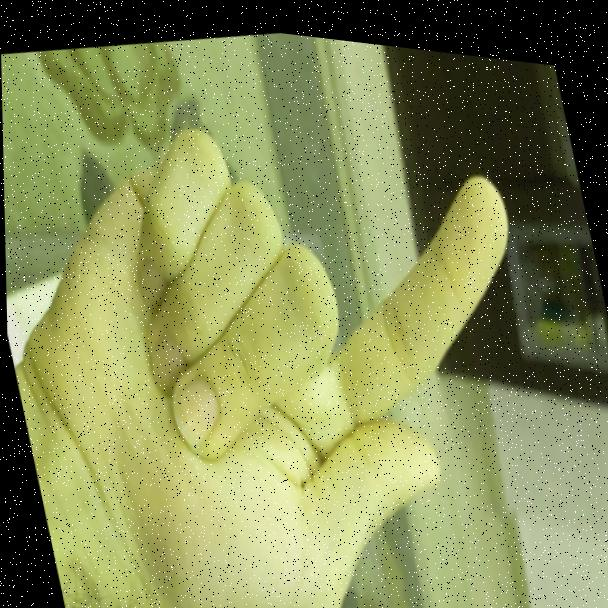five: (20, 50, 601, 608)
